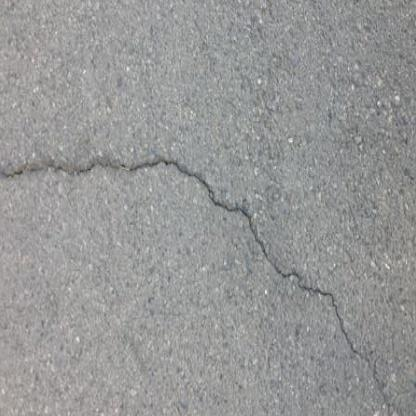Cracks: (0, 150, 399, 416)
